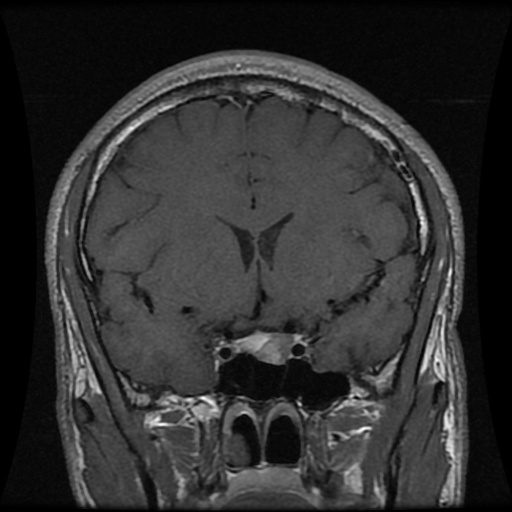pituitary: (229, 330, 298, 362)
